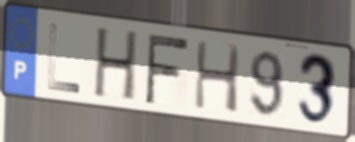3: (295, 50, 342, 129)
9: (246, 48, 290, 119)
F: (143, 31, 192, 107)
H: (192, 38, 243, 116), (91, 26, 141, 105)
L: (46, 20, 83, 96)
